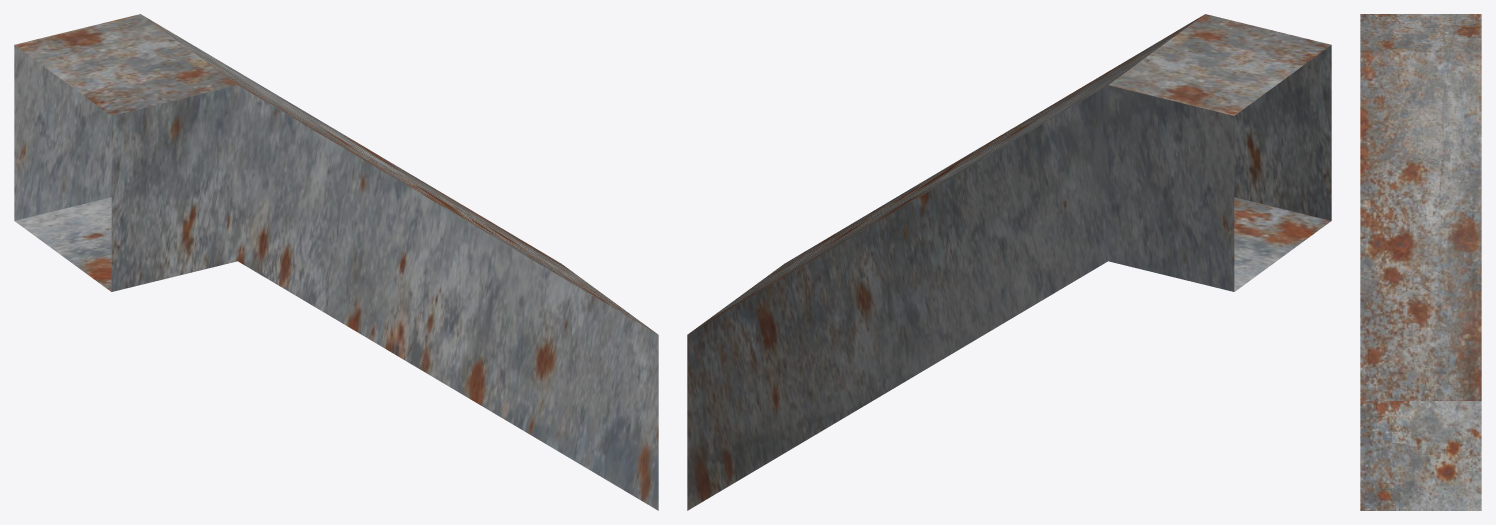
File: TrashChute.fbx
3 renders of one model, left to right at view 1: azimuth 30°, elevation 25°; view 2: azimuth 150°, elevation 25°; view 3: azimuth 270°, elevation 25°, orthographic. The views are drawn at different scales.
Parts seen in each view (by area): view 1: Cube; view 2: Cube; view 3: Cube.
Part boxes in pixels (left/top/right/bottom): Cube: left=14, top=14, right=658, bottom=510; Cube: left=687, top=14, right=1331, bottom=510; Cube: left=1360, top=14, right=1481, bottom=510.
Bounding box in the file's own units: 650 × 600 × 200.
